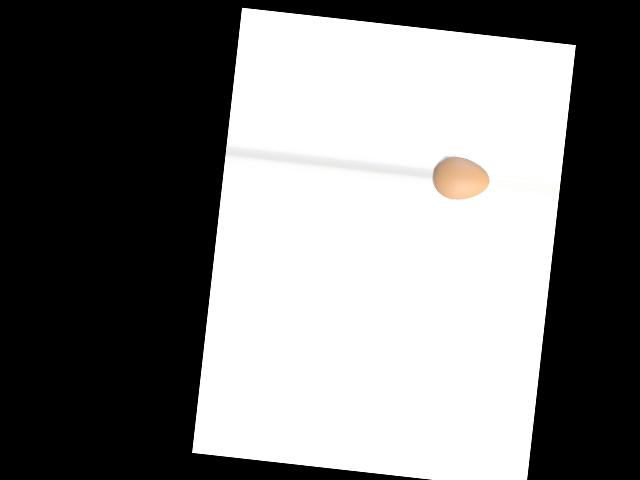egg: (430, 154, 491, 202)
